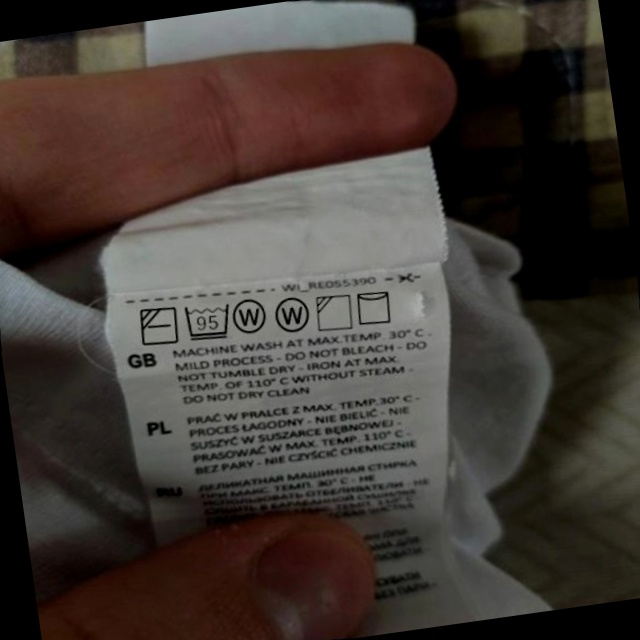95C: (180, 297, 236, 345)
dry_flat_in_shade: (135, 301, 182, 351)
line_dry: (351, 284, 398, 330)
shade_dry: (312, 289, 357, 336)
wet_clean: (229, 291, 273, 339), (271, 292, 315, 339)
